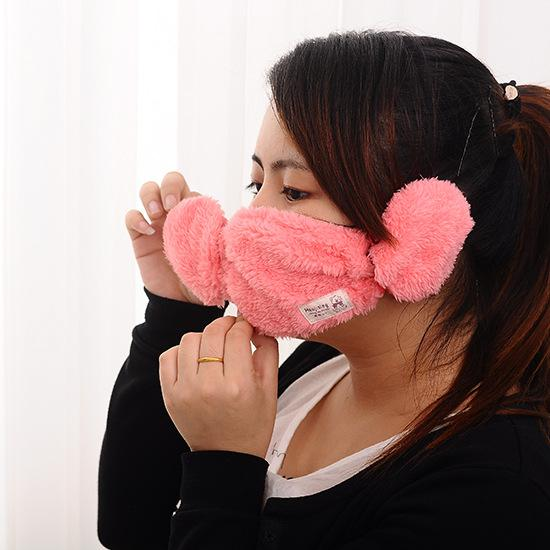OK: (214, 146, 400, 332)
